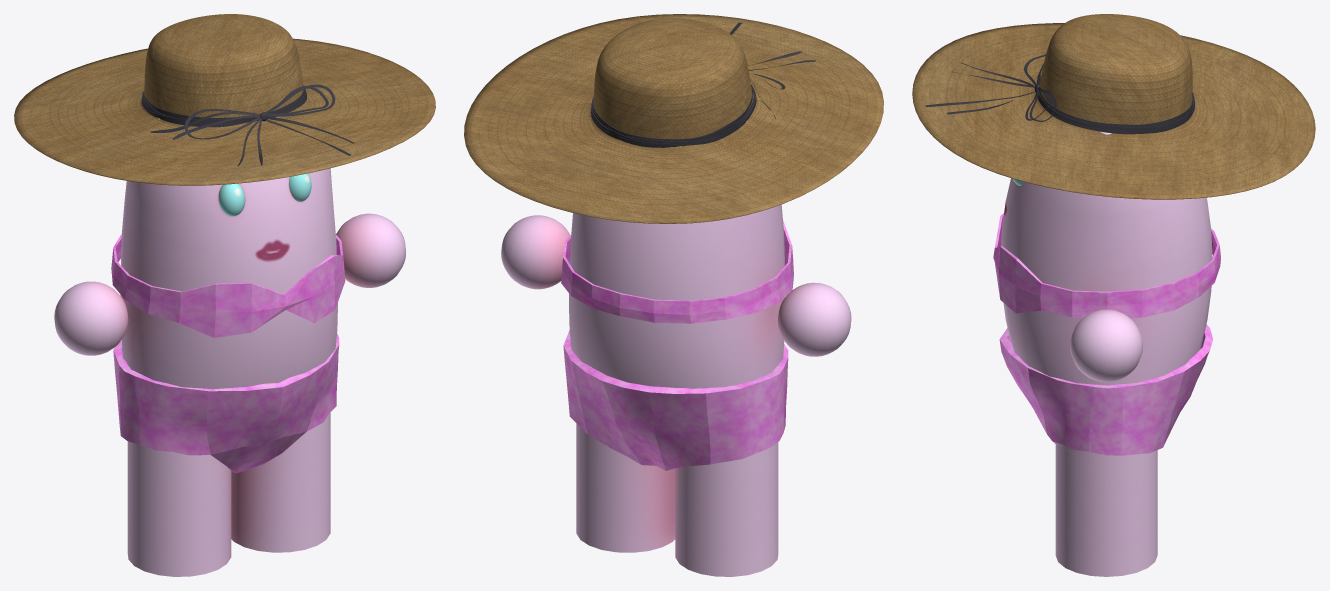
Rendered from girl1.2.fbx.
The picture shows the model from 3 angles, left to right: view 1: azimuth 30°, elevation 25°; view 2: azimuth 150°, elevation 25°; view 3: azimuth 270°, elevation 25°; orthographic projection. The views are drawn at different scales.
Parts seen in each view (by area): view 1: body1, girl1_hat, pants2, bikini2, left_eye, right_eye; view 2: girl1_hat, body1, pants2, bikini2; view 3: girl1_hat, body1, pants2, bikini2.
Part boxes in pixels (x1=…): body1: x1=54, y1=118, x2=405, y2=576; girl1_hat: x1=14, y1=14, x2=435, y2=185; pants2: x1=113, y1=333, x2=339, y2=473; bikini2: x1=111, y1=233, x2=345, y2=337; left_eye: x1=218, y1=183, x2=245, y2=216; right_eye: x1=289, y1=173, x2=311, y2=201; girl1_hat: x1=464, y1=14, x2=883, y2=223; body1: x1=501, y1=121, x2=851, y2=576; pants2: x1=563, y1=330, x2=788, y2=470; bikini2: x1=561, y1=220, x2=793, y2=323; girl1_hat: x1=912, y1=14, x2=1315, y2=199; body1: x1=1001, y1=131, x2=1212, y2=576; pants2: x1=999, y1=324, x2=1213, y2=455; bikini2: x1=993, y1=213, x2=1220, y2=318.
Bounding box in the file's own units: 41.36 × 57.33 × 41.17.
